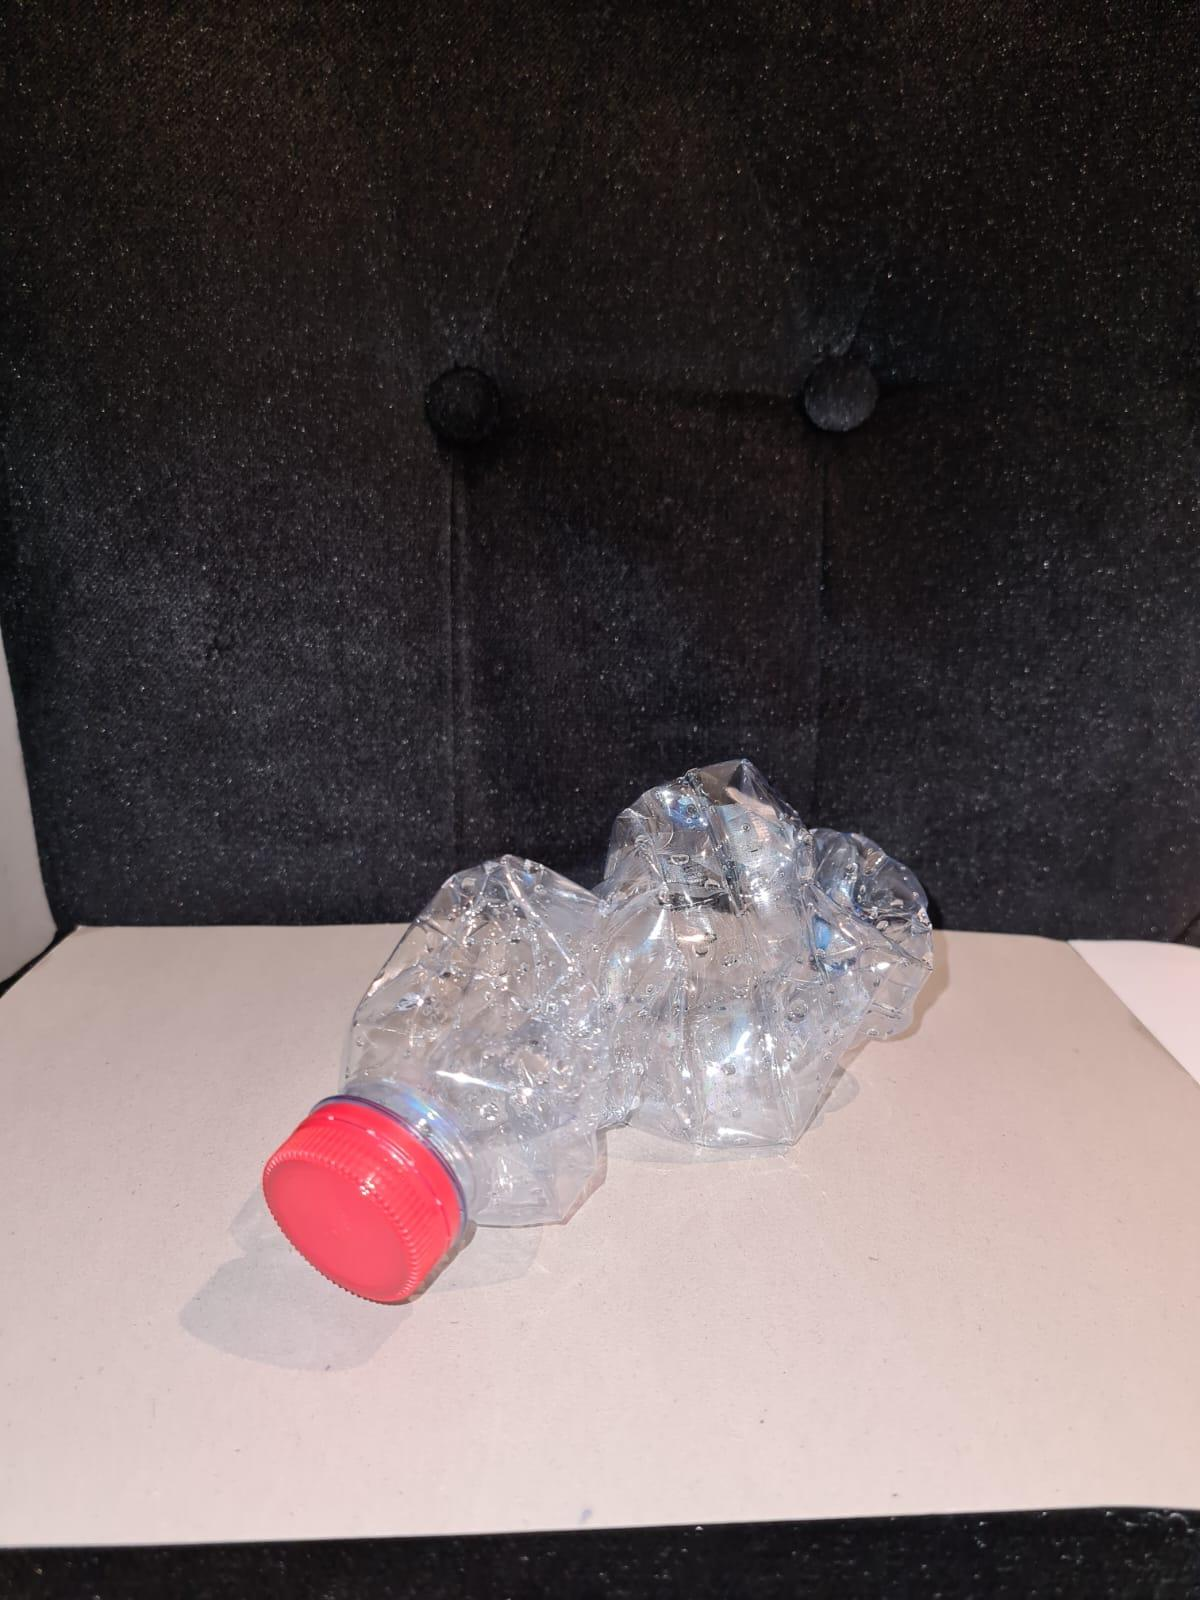bottle: (229, 753, 988, 1291)
